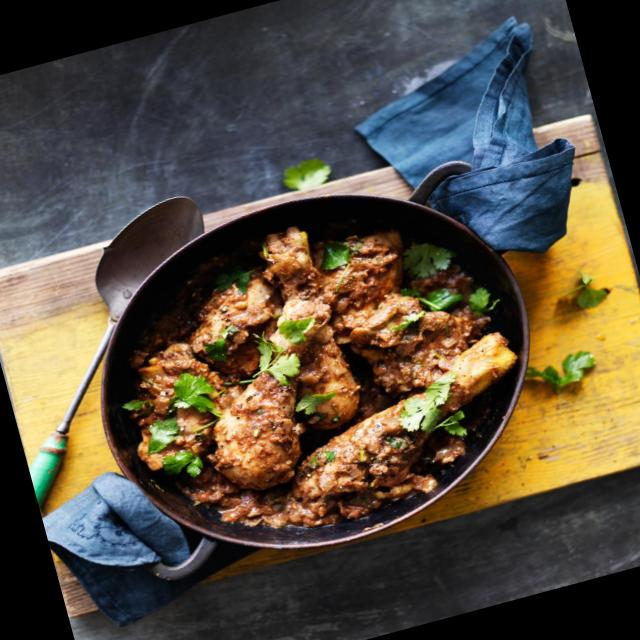chicken: (111, 178, 522, 557)
